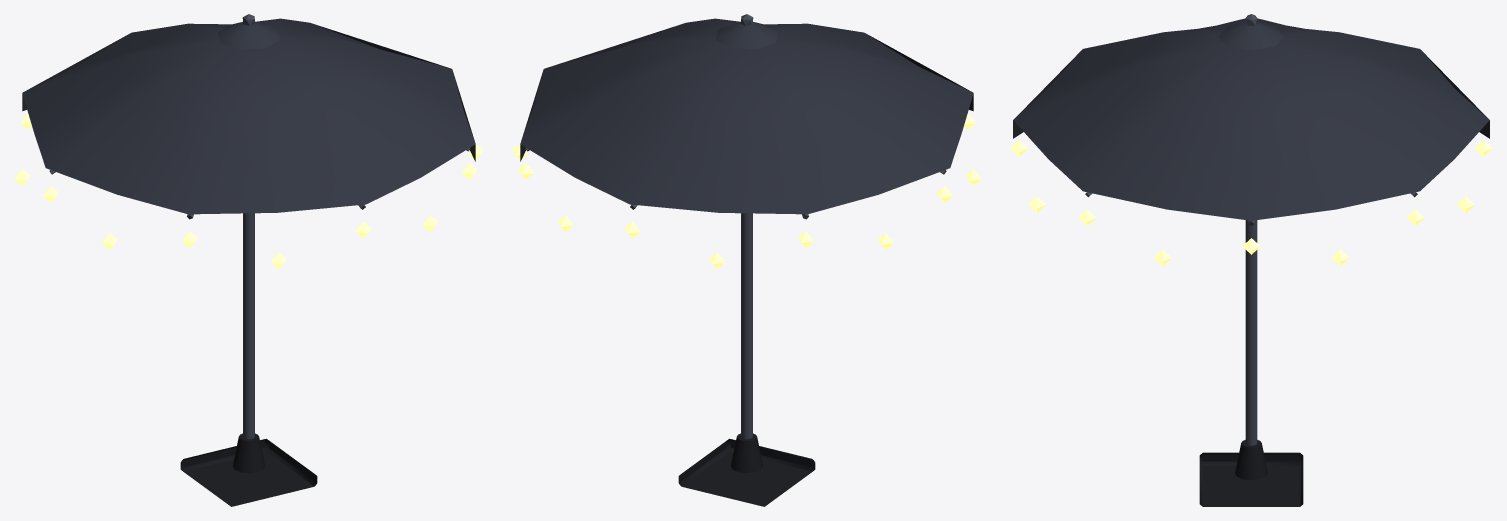
Rendered from umbrella_cafe.glb.
3 renders of one model, left to right at view 1: azimuth 30°, elevation 25°; view 2: azimuth 150°, elevation 25°; view 3: azimuth 270°, elevation 25°, orthographic.
Parts seen in each view (by area): view 1: body, lights; view 2: body, lights; view 3: body, lights.
Part boxes in pixels (left/top/right/bottom): body: left=22, top=14, right=475, bottom=506; lights: left=14, top=113, right=483, bottom=268; body: left=520, top=14, right=973, bottom=506; lights: left=512, top=113, right=981, bottom=268; body: left=1013, top=14, right=1489, bottom=506; lights: left=1010, top=140, right=1492, bottom=265.
Bounding box in the file's own units: 2.33 × 2.52 × 2.33.
